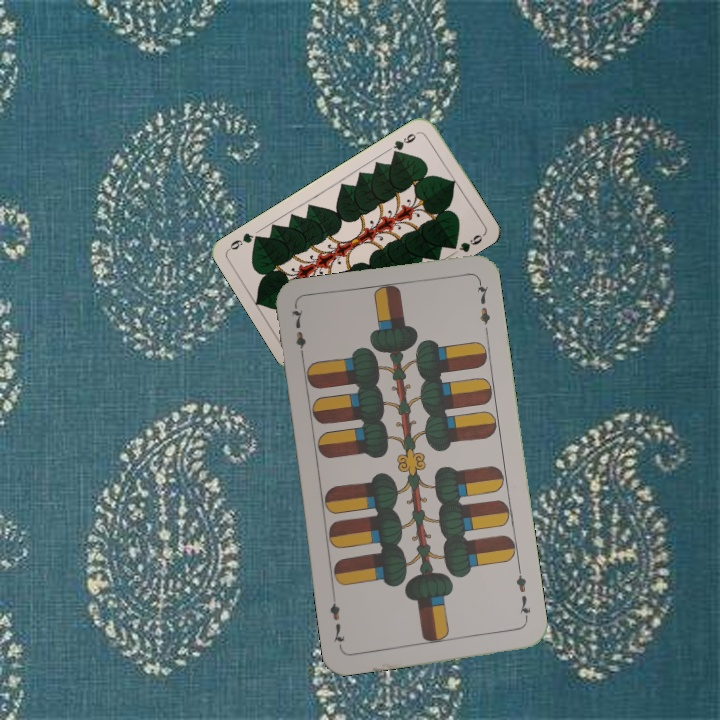E7: (512, 565, 534, 625), (287, 303, 309, 362)
G9: (388, 128, 422, 158)
